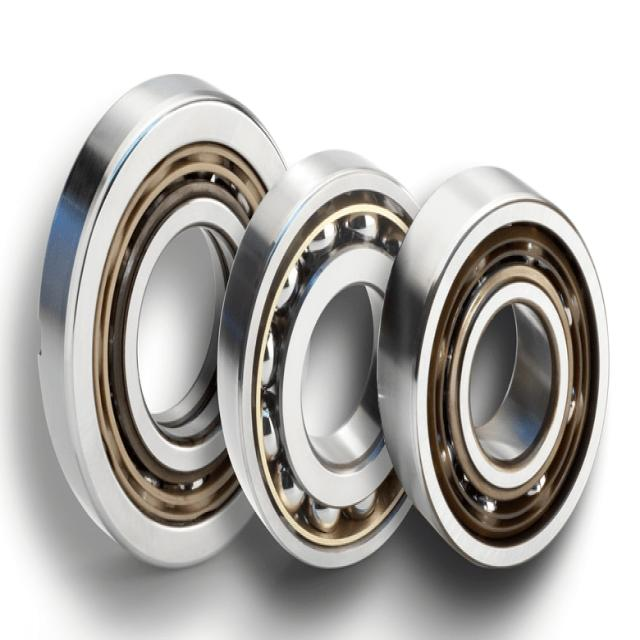Bearing: (35, 74, 288, 570), (377, 163, 614, 569), (215, 148, 427, 570)
